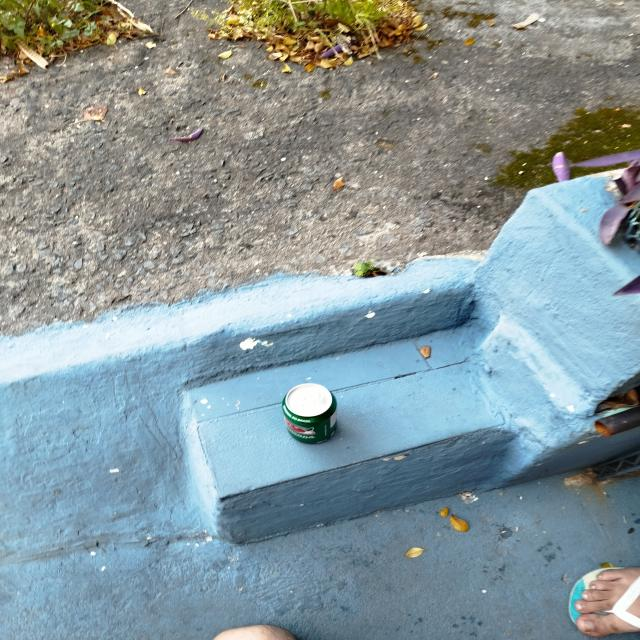Guarana: (282, 382, 338, 445)
